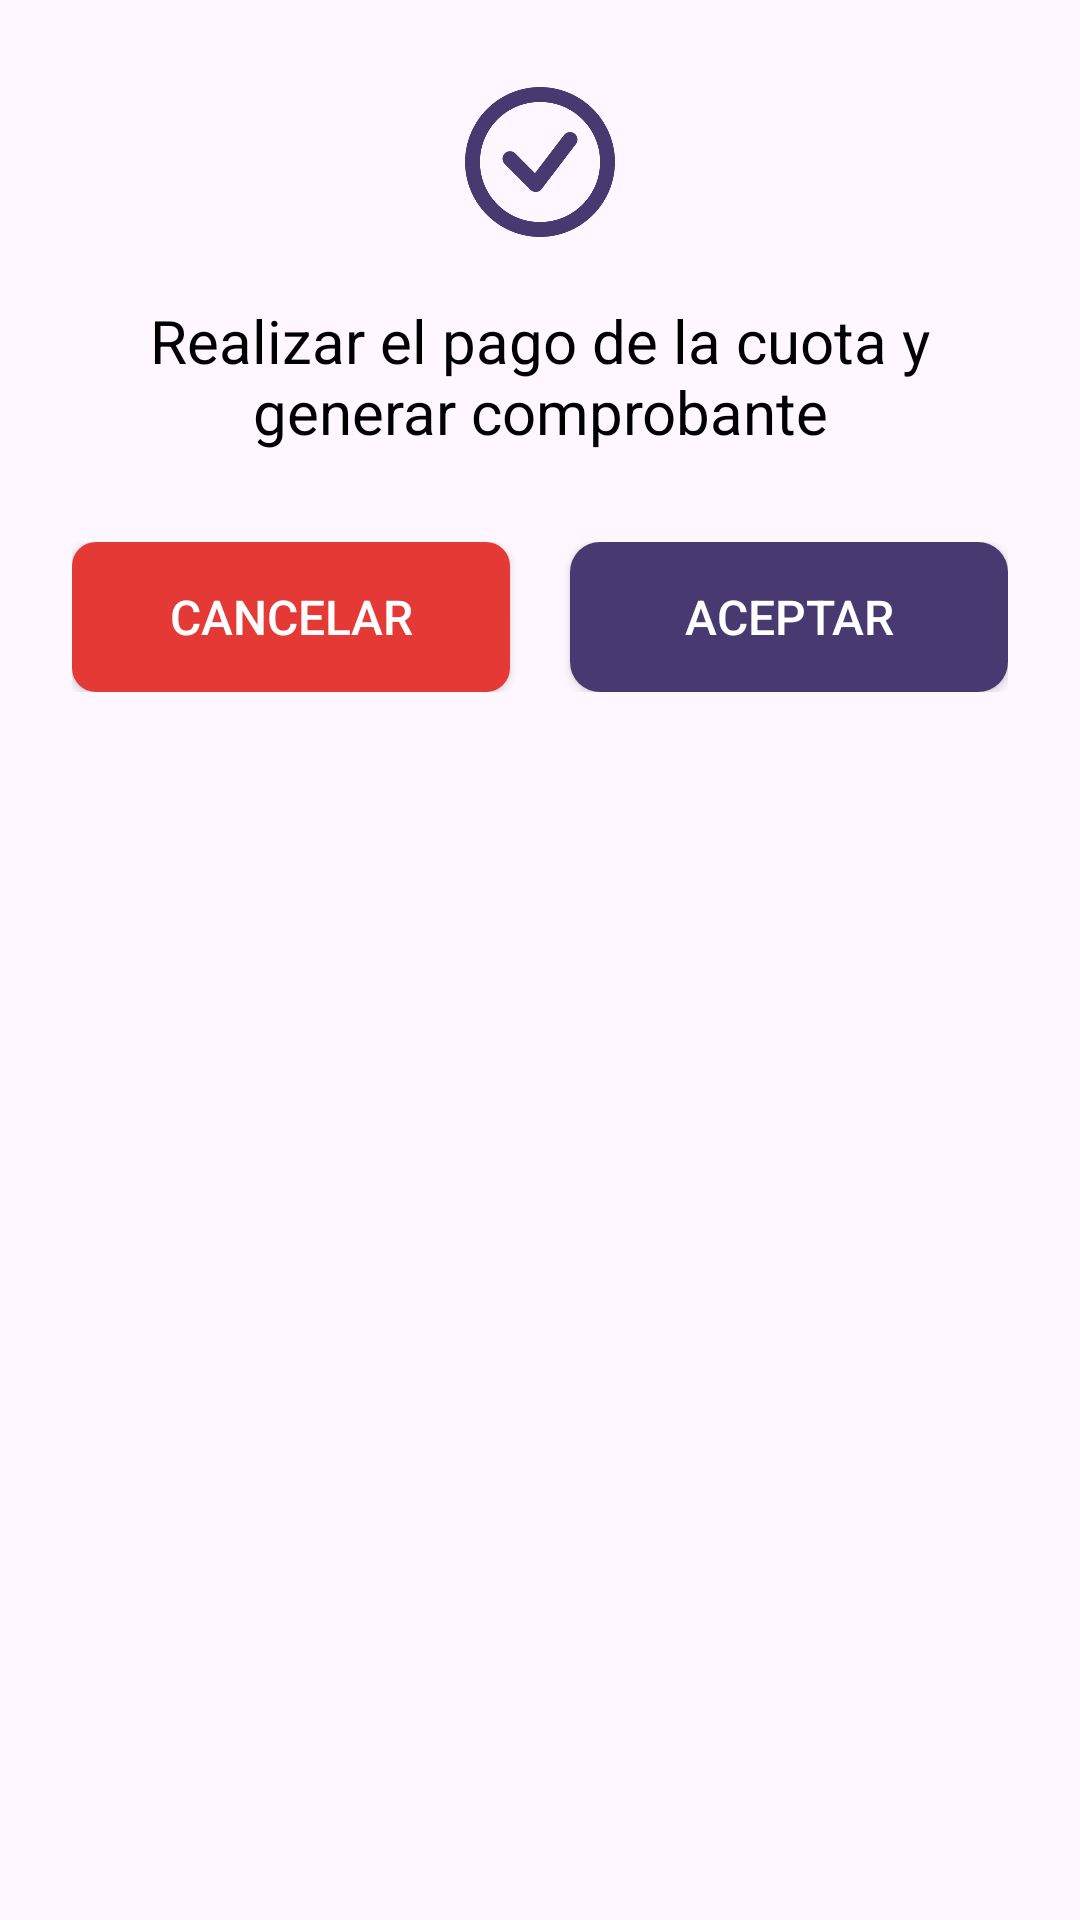

Point at icon controls on the screen. Image size 1080*1920, points as (x=x, y=y).
Icono de confirmación: (x=540, y=162)
